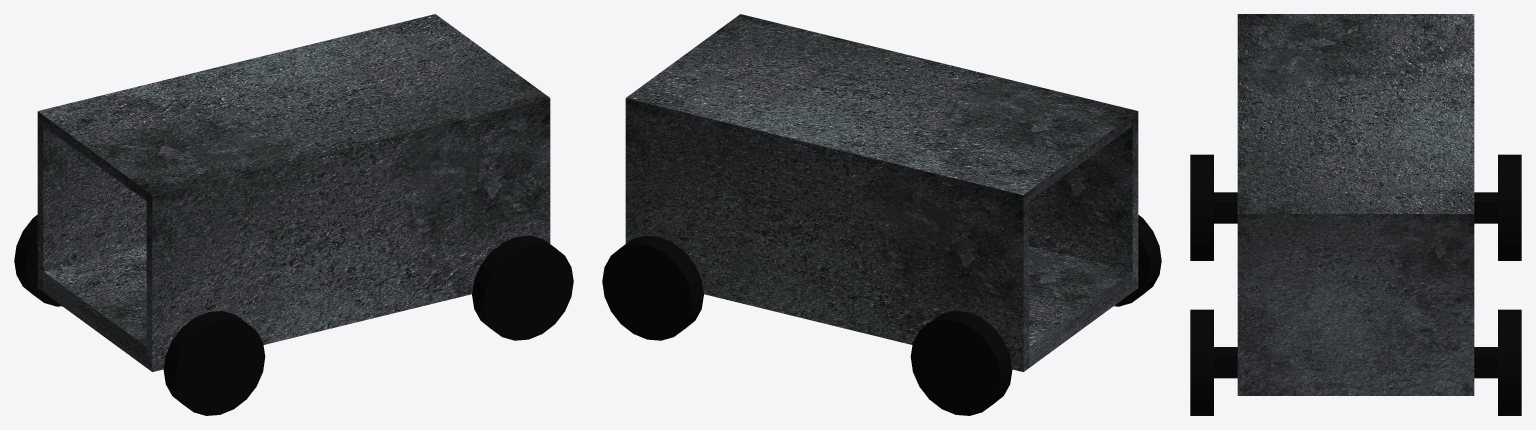
The model's file is Car.fbx.
3 views of the same model, side by side, from view 1: azimuth 30°, elevation 25°; view 2: azimuth 150°, elevation 25°; view 3: azimuth 270°, elevation 25° (orthographic). The views are drawn at different scales.
Visible parts, largest first — view 1: Cube.010, Cube.002; view 2: Cube.010, Cube.002; view 3: Cube.010.
Boxes of the visible parts, left/top/right/bottom form: Cube.010: left=14, top=14, right=573, bottom=415; Cube.002: left=43, top=246, right=146, bottom=367; Cube.010: left=602, top=14, right=1161, bottom=415; Cube.002: left=1029, top=246, right=1132, bottom=367; Cube.010: left=1190, top=14, right=1521, bottom=415.
Size of the model in its own units: 401 by 205 by 280.
